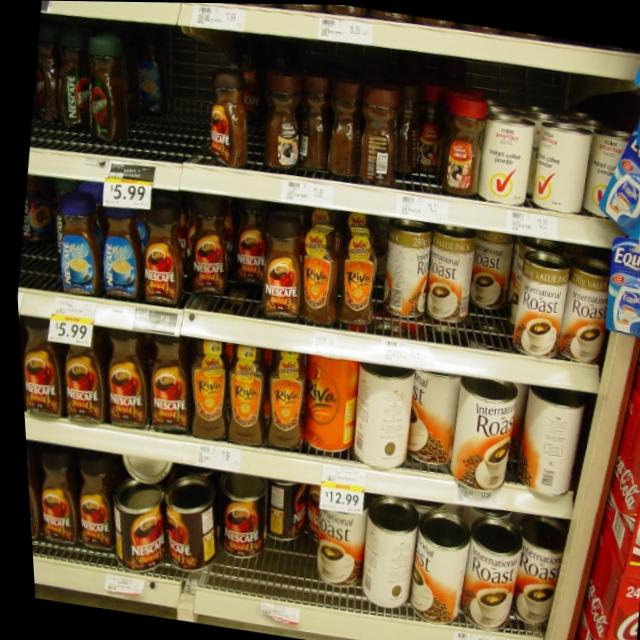q13: (121, 193, 189, 312), (195, 64, 264, 174), (93, 326, 155, 442), (177, 201, 237, 320), (14, 308, 72, 423), (134, 332, 194, 442), (226, 200, 274, 296)
